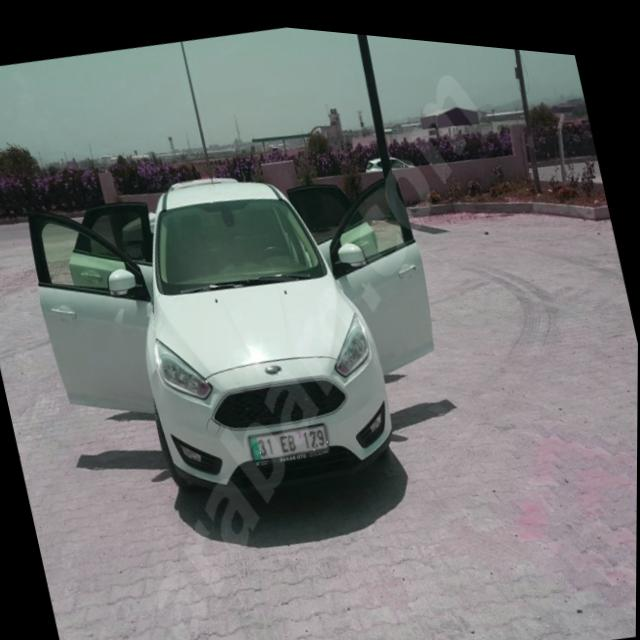license_plate: (249, 412, 330, 460)
